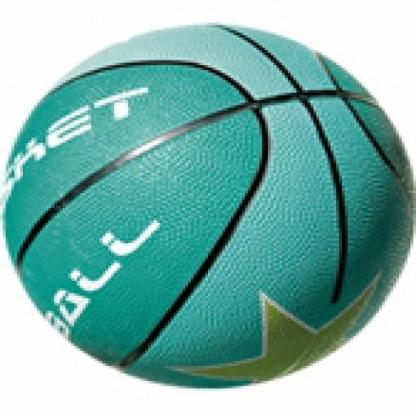basketball: (0, 18, 410, 386)
